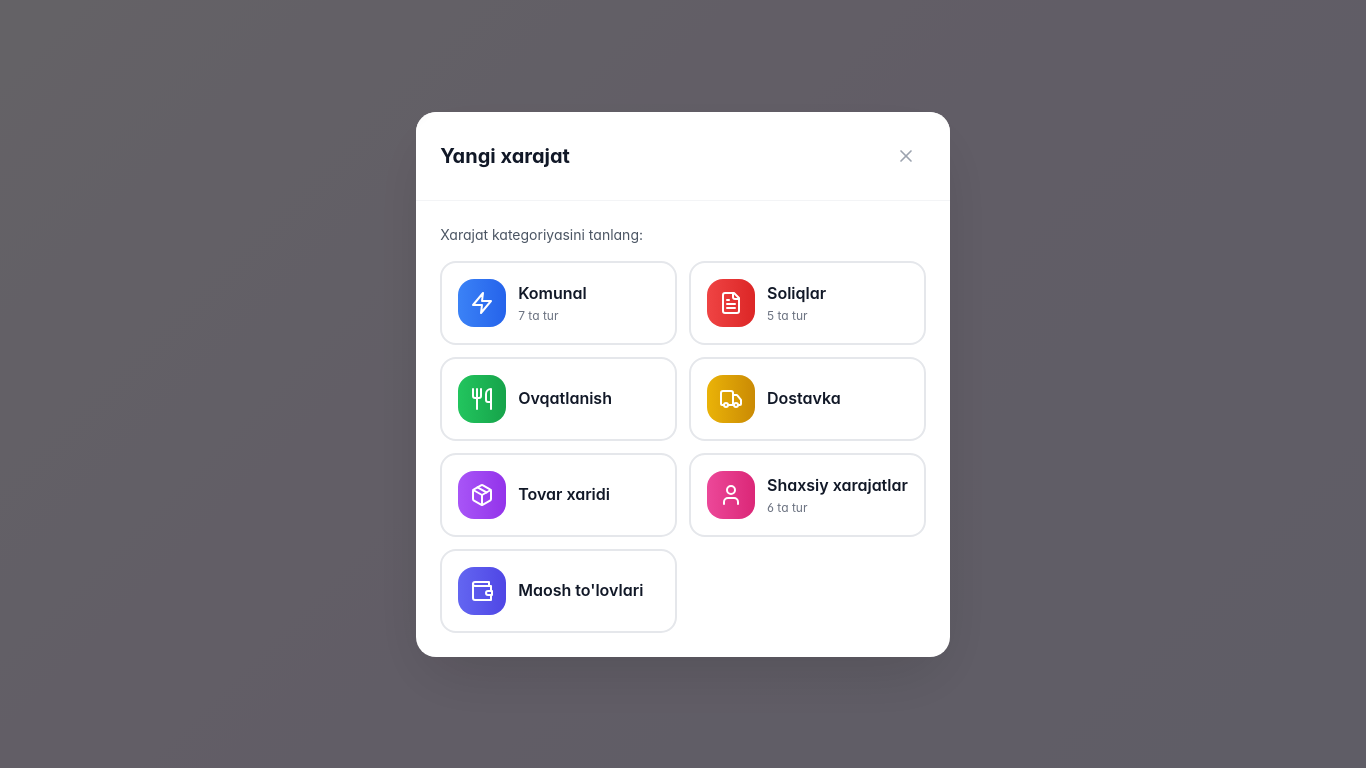
Test: 🧪 ExpenseModal Component › Category Selection › ✅ Moves to form step when category selected
The width and height of the screenshot is (1366, 768).
Click the button "Komunal 7 ta tur". click: (559, 302)
box: [440, 260, 677, 344]
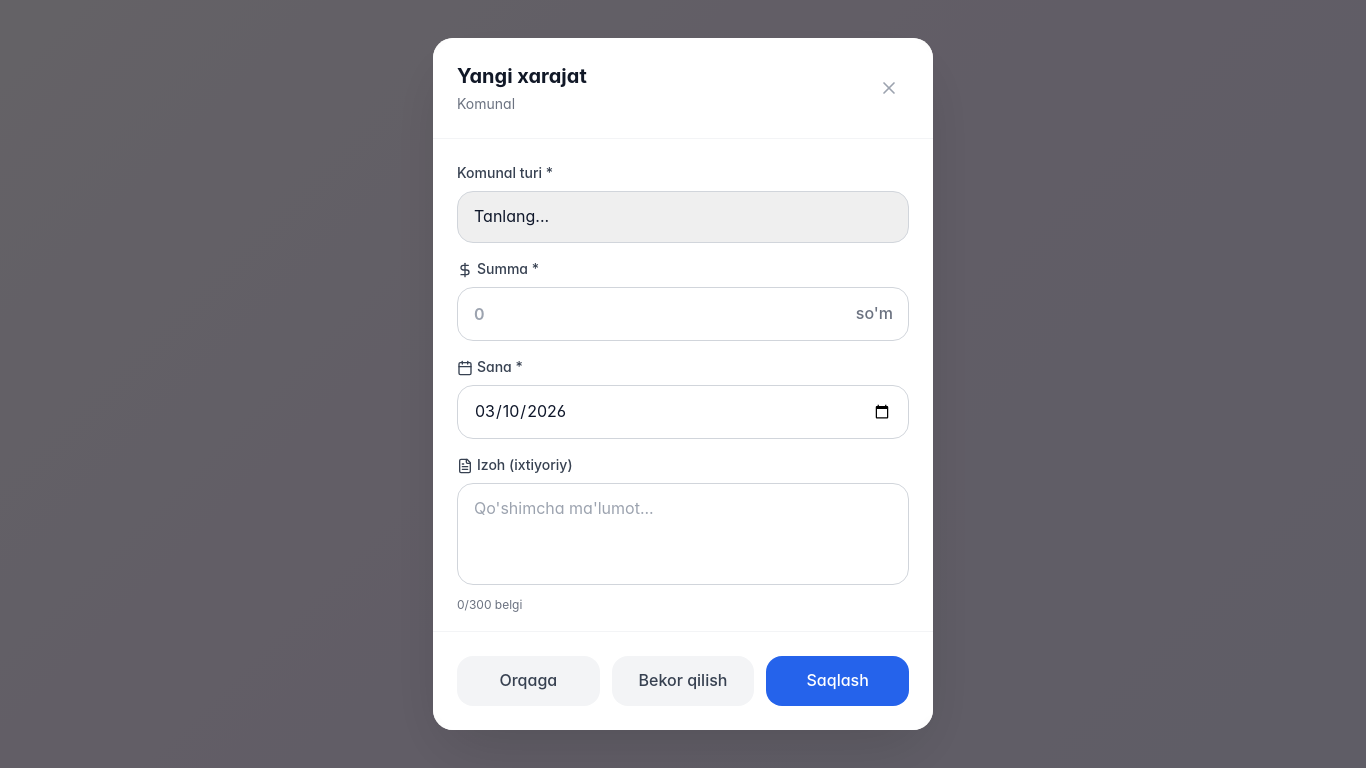
Expected: the text "Komunal turi *" is shown, [457, 164, 553, 181]
Expected: the text "Summa *" is shown, [457, 260, 539, 278]
